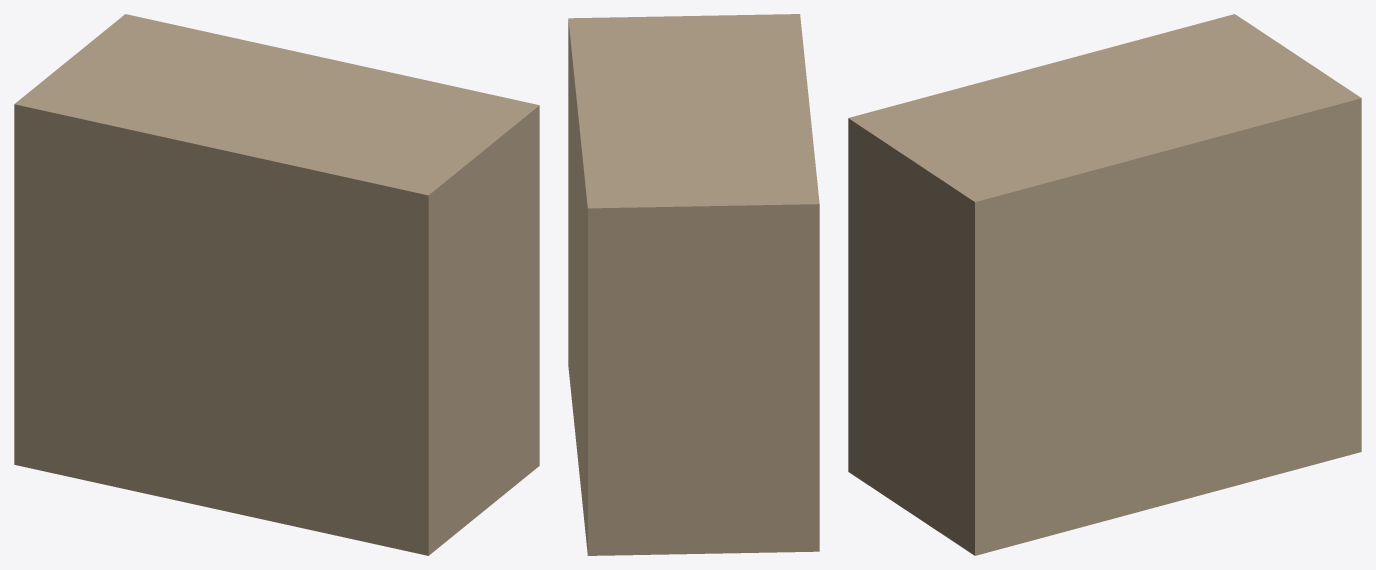
Rendered from bld_164605988.dae.
The picture shows the model from 3 angles, left to right: view 1: azimuth 30°, elevation 25°; view 2: azimuth 150°, elevation 25°; view 3: azimuth 270°, elevation 25°; orthographic projection. The views are drawn at different scales.
Parts seen in each view (by area): view 1: bld_164605988; view 2: bld_164605988; view 3: bld_164605988.
Part boxes in pixels (box(x1,y1,x2,y2)): bld_164605988: box(14, 14, 539, 555); bld_164605988: box(568, 14, 819, 555); bld_164605988: box(848, 14, 1361, 555).
Bounding box in the file's own units: 9.13 × 10.53 × 8.
